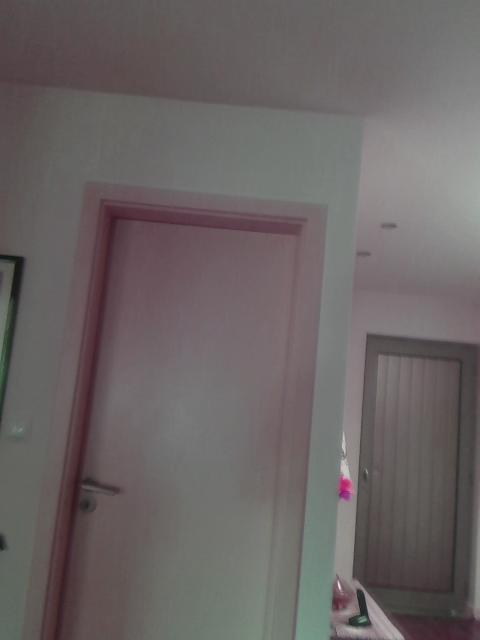closed_door: (40, 180, 326, 639)
